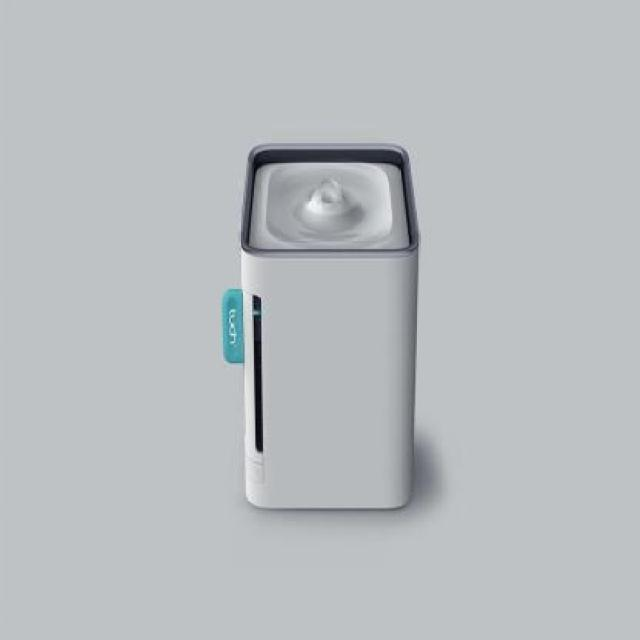cooler: (218, 138, 426, 517)
